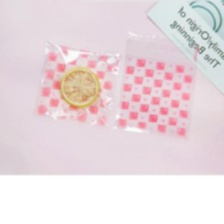snack: (108, 27, 203, 143), (28, 34, 126, 130)
